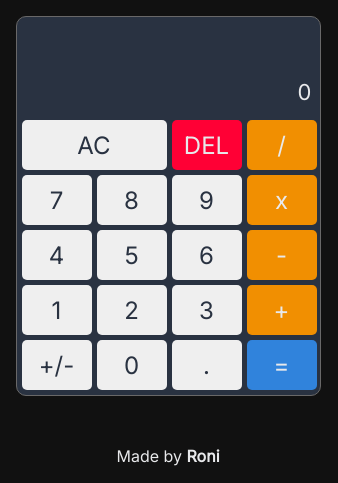
Test: Buttons and display working correctly
Expected: the text with id "display-current" reads "0", [298,79,312,105]
Click the button "1" at {"x": 56, "y": 310}, box [22,285,92,335]
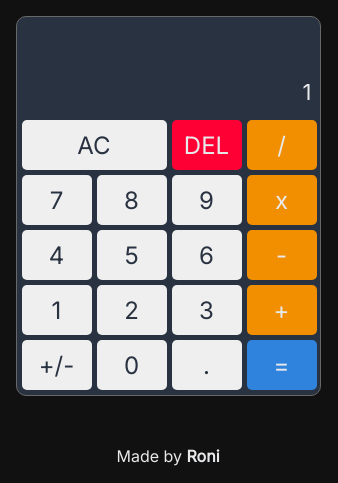
Now the text with id "display-current" reads "1", box [302,79,312,105]
Click the button "+" at {"x": 282, "y": 310}, box [246,285,316,335]
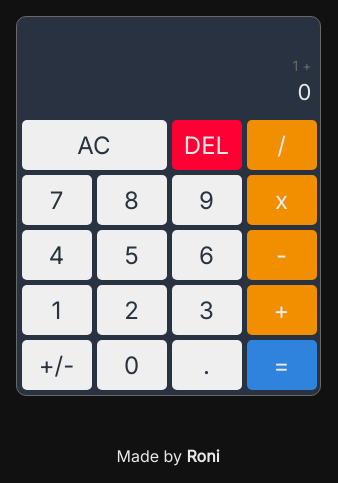
Now the text with id "display-current" reads "0", box [298,79,312,105]
Now the text with id "display-previous" reads "1 +", box [293,57,312,74]
Click the button "2" at {"x": 132, "y": 310}, box [96,285,166,335]
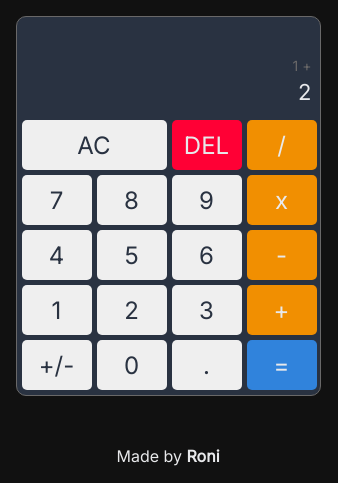
Now the text with id "display-previous" reads "1 +", box [293,57,312,74]
Now the text with id "display-current" reads "2", box [298,79,312,105]
Click the button "=" at {"x": 282, "y": 365}, box [246,340,316,390]
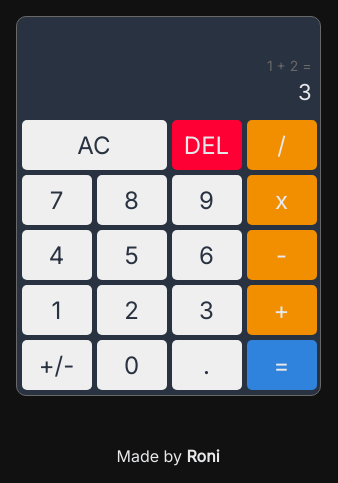
Now the text with id "display-current" reads "3", box [298,79,312,105]
Now the text with id "display-previous" reads "1 + 2 =", box [267,57,312,74]
